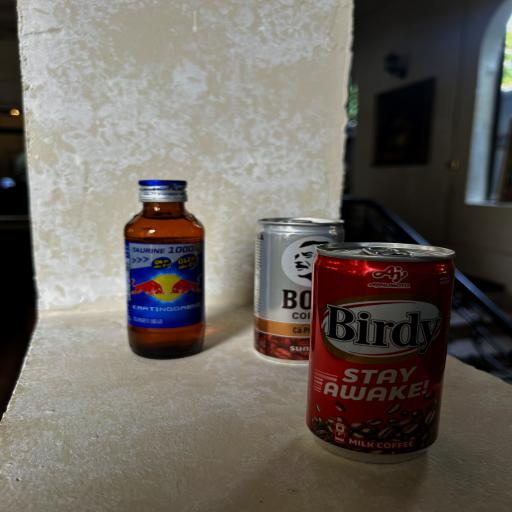birdy: (306, 238, 460, 466)
bo_huc: (123, 176, 211, 362)
boss_coffee: (251, 214, 347, 364)
